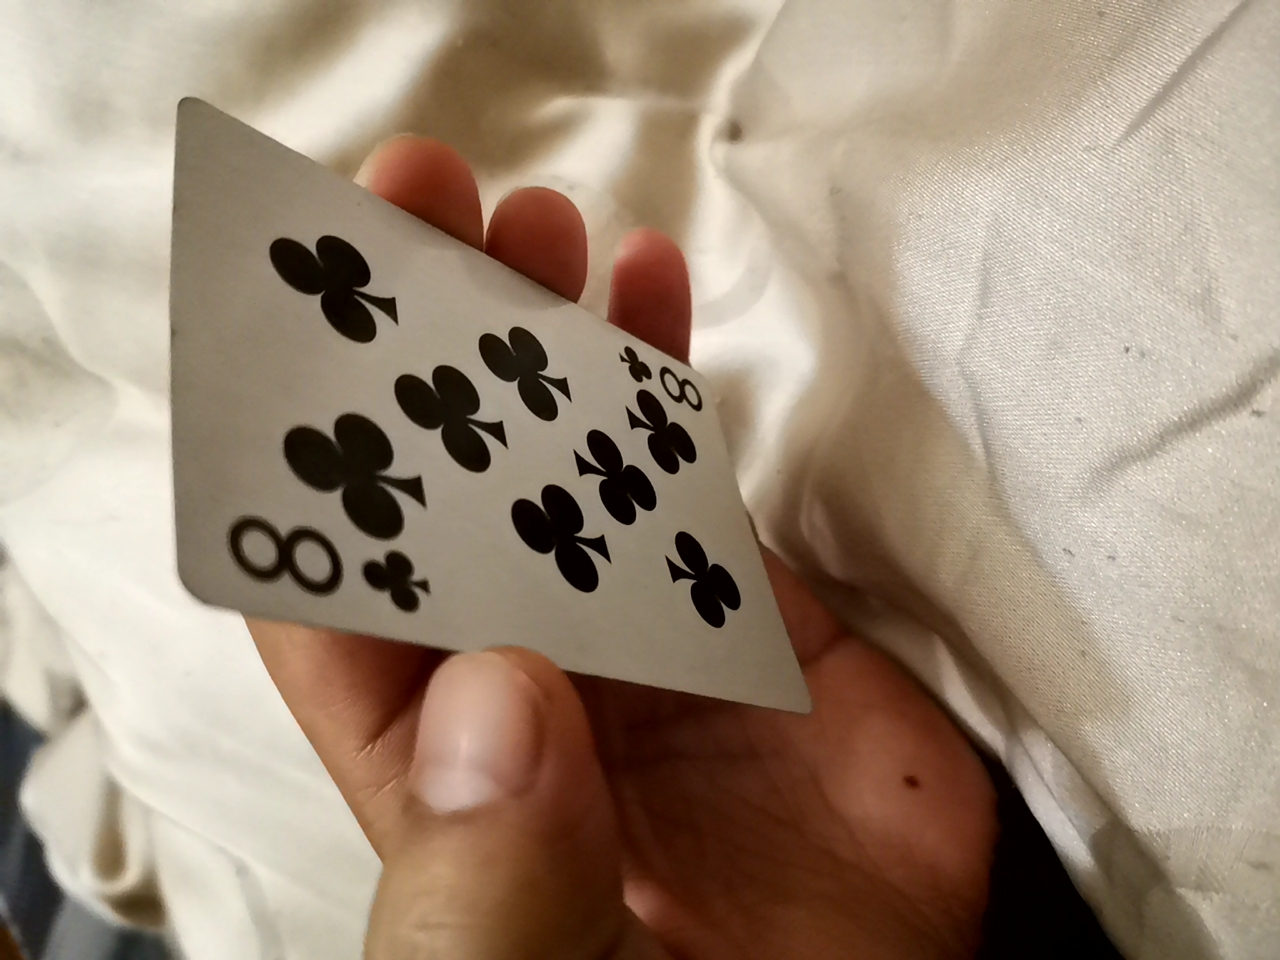mh 8: (156, 67, 823, 739)
